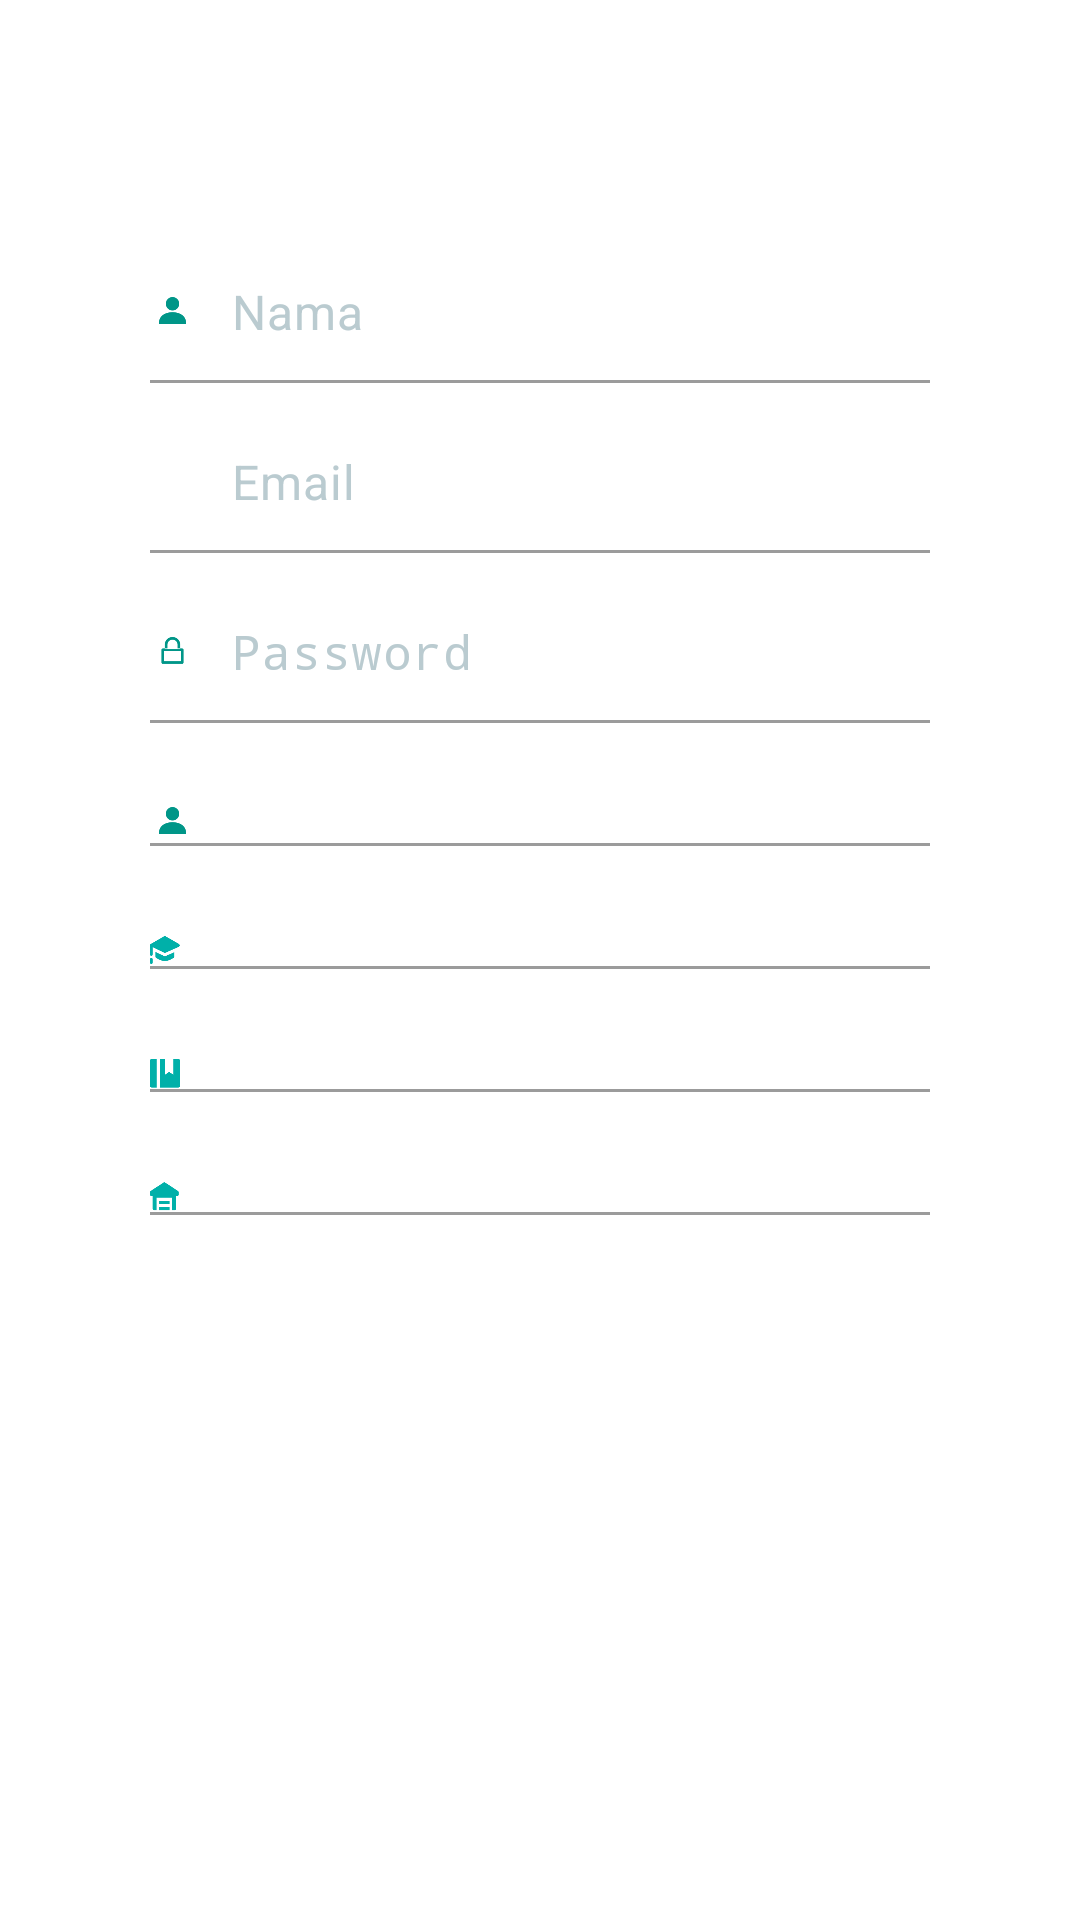

Screen size 1080×1920. Icon name, then its center in pixels as (x,y):
angkatan: (165,950)
asrama: (164,1196)
jurusan: (165,1073)
user: (172,310), (172,820)
